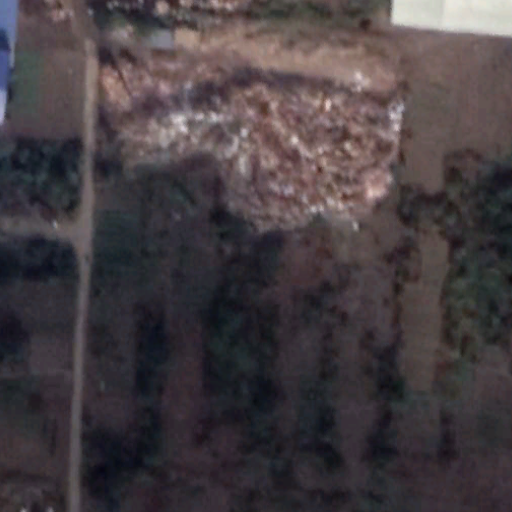msw: (110, 59, 404, 210)
